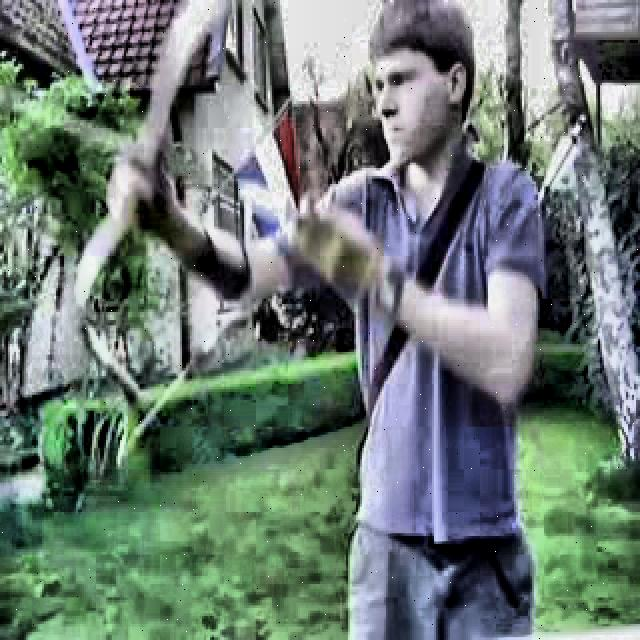P: (104, 1, 546, 637)
